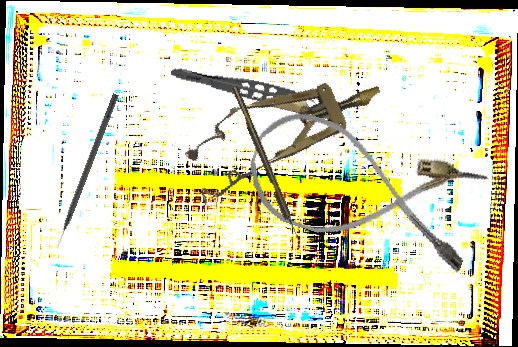Cannula: (236, 101, 492, 279)
Hook Surgical: (231, 85, 301, 243), (52, 92, 119, 250)
Speculum: (175, 52, 395, 207)
Tissue Forceps: (168, 64, 322, 119)
